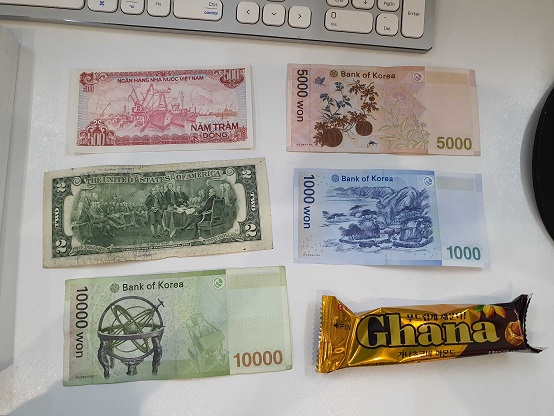10000won: (65, 269, 291, 385)
1000won: (293, 169, 492, 268)
2dollar: (43, 158, 274, 261)
5000won: (284, 62, 482, 156)
500vnd: (66, 62, 255, 150)
